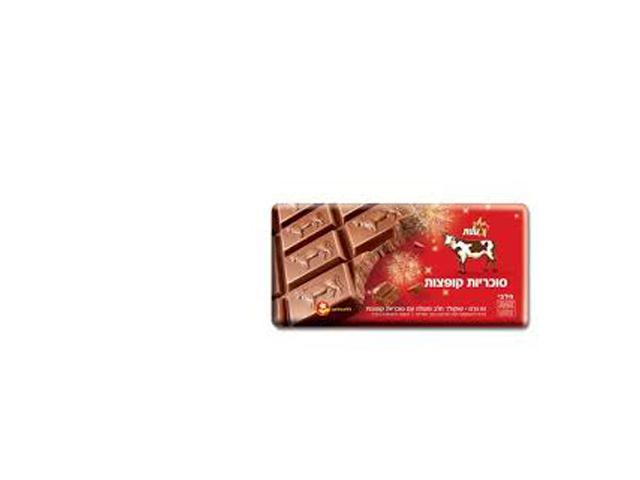chocolate: (263, 197, 531, 332)
